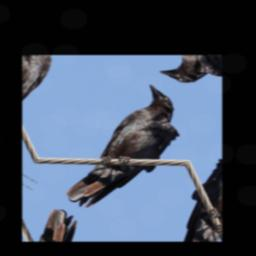Crow: (61, 81, 199, 226)
